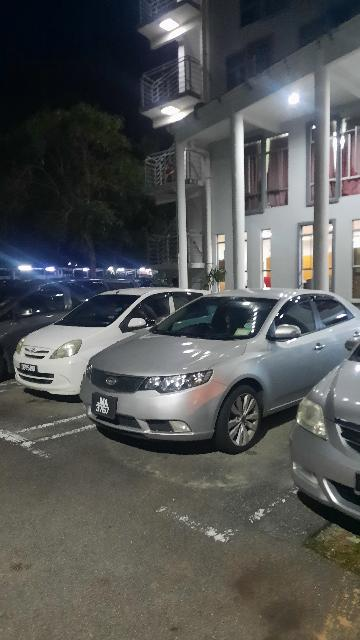License_Plate: (87, 388, 120, 424), (19, 365, 41, 376)
car: (80, 287, 360, 453), (13, 284, 230, 400), (289, 327, 360, 534)
